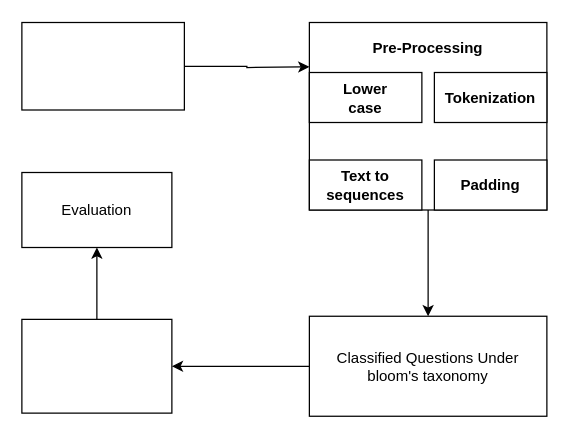
Some shapes in this 569 by 438 pixel diagram are drawn without their labels. Here are the shapes that lost their labels. From the top down, the centre of each, then its label:
At point (102, 65): "Text Corpus [ Questions ]".
At point (96, 365): "Neural Network Embedding + ConvNet1-D + LSTM".
